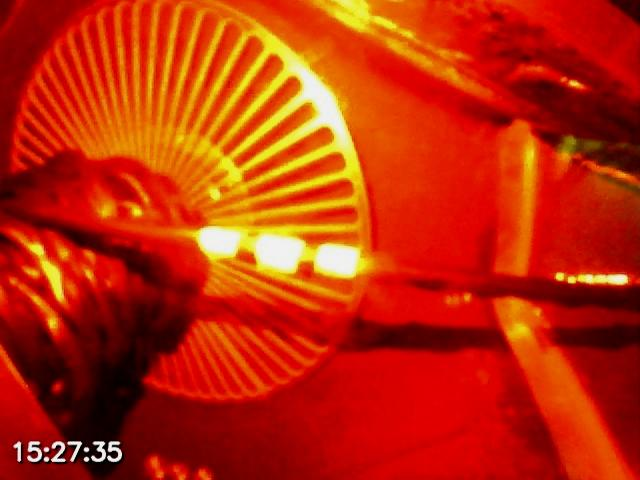white-dots: (196, 225, 362, 280)
